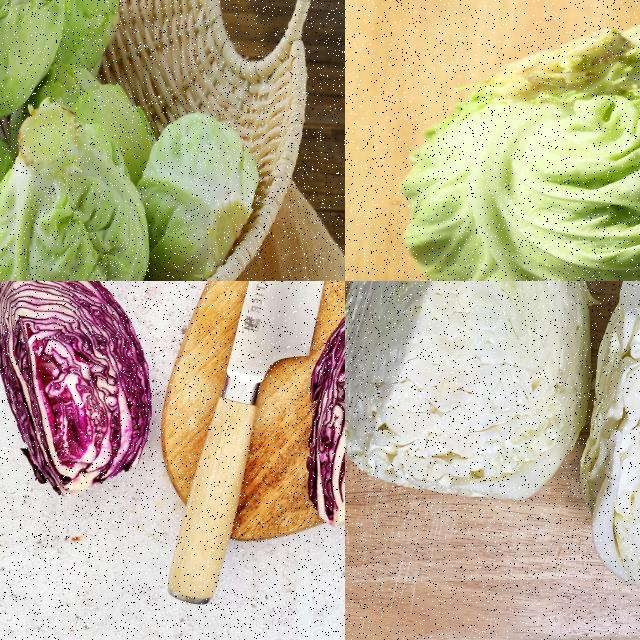cabbage: (394, 13, 639, 280), (345, 281, 595, 493), (0, 281, 155, 499), (0, 97, 148, 280), (136, 107, 256, 280), (302, 281, 344, 535), (12, 0, 120, 69), (0, 0, 60, 123)
